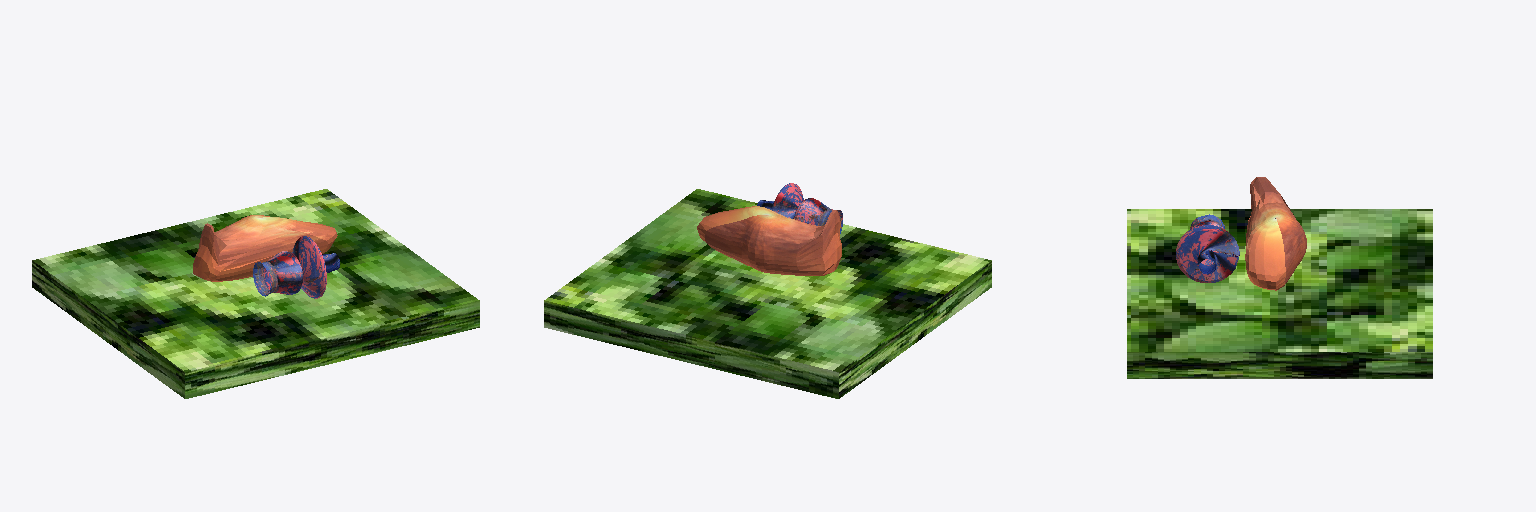
3 renders of one model, left to right at view 1: azimuth 30°, elevation 25°; view 2: azimuth 150°, elevation 25°; view 3: azimuth 270°, elevation 25°, orthographic.
Visible parts, largest first — view 1: pCube1, pSphere1, nurbsToPoly1; view 2: pCube1, pSphere1, nurbsToPoly1; view 3: pCube1, pSphere1, nurbsToPoly1.
Boxes of the visible parts, x1,y1,x2,y2 form: pCube1: [32, 189, 479, 398]; pSphere1: [193, 215, 337, 281]; nurbsToPoly1: [253, 236, 339, 298]; pCube1: [544, 189, 991, 398]; pSphere1: [697, 206, 841, 275]; nurbsToPoly1: [757, 183, 842, 233]; pCube1: [1127, 209, 1432, 378]; pSphere1: [1245, 177, 1306, 290]; nurbsToPoly1: [1176, 214, 1239, 282].
Bounding box in the file's own units: 11.3 × 3.79 × 10.17.
3 materials, 3 textured.